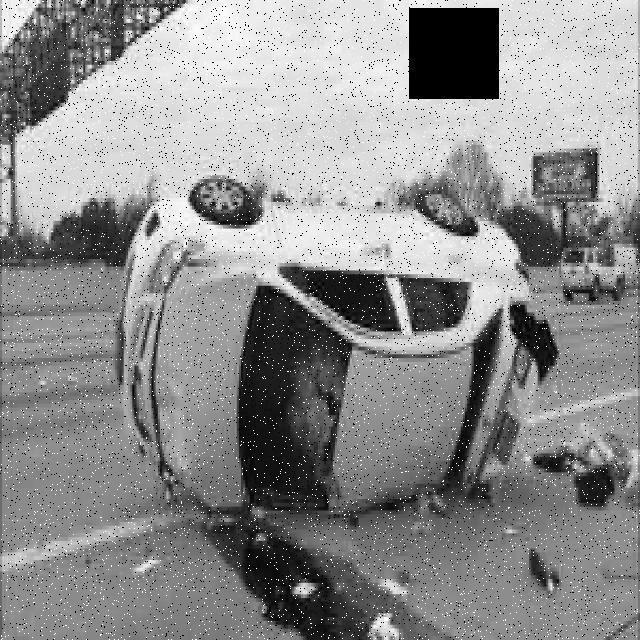accident: (111, 160, 546, 518)
vehicle: (560, 244, 628, 304)
